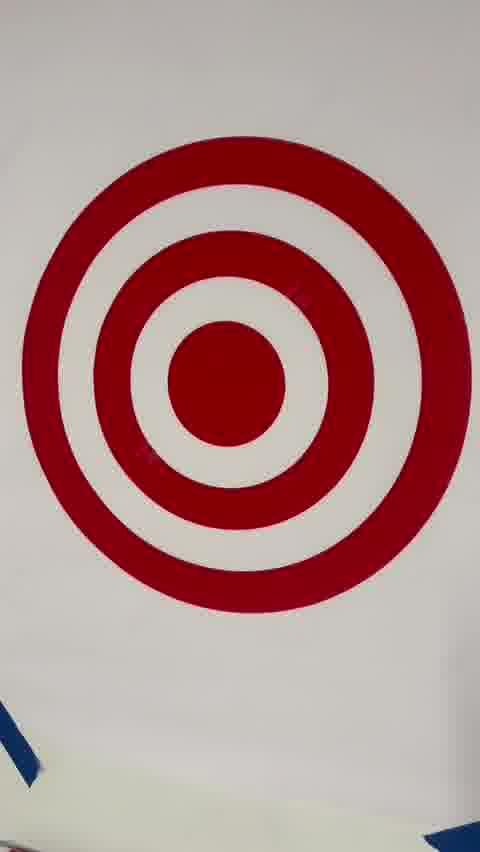target_red: (20, 134, 474, 615)
